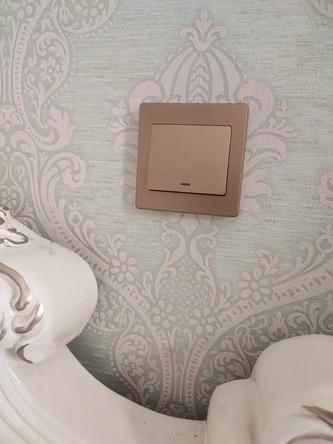switch: (149, 120, 232, 203)
